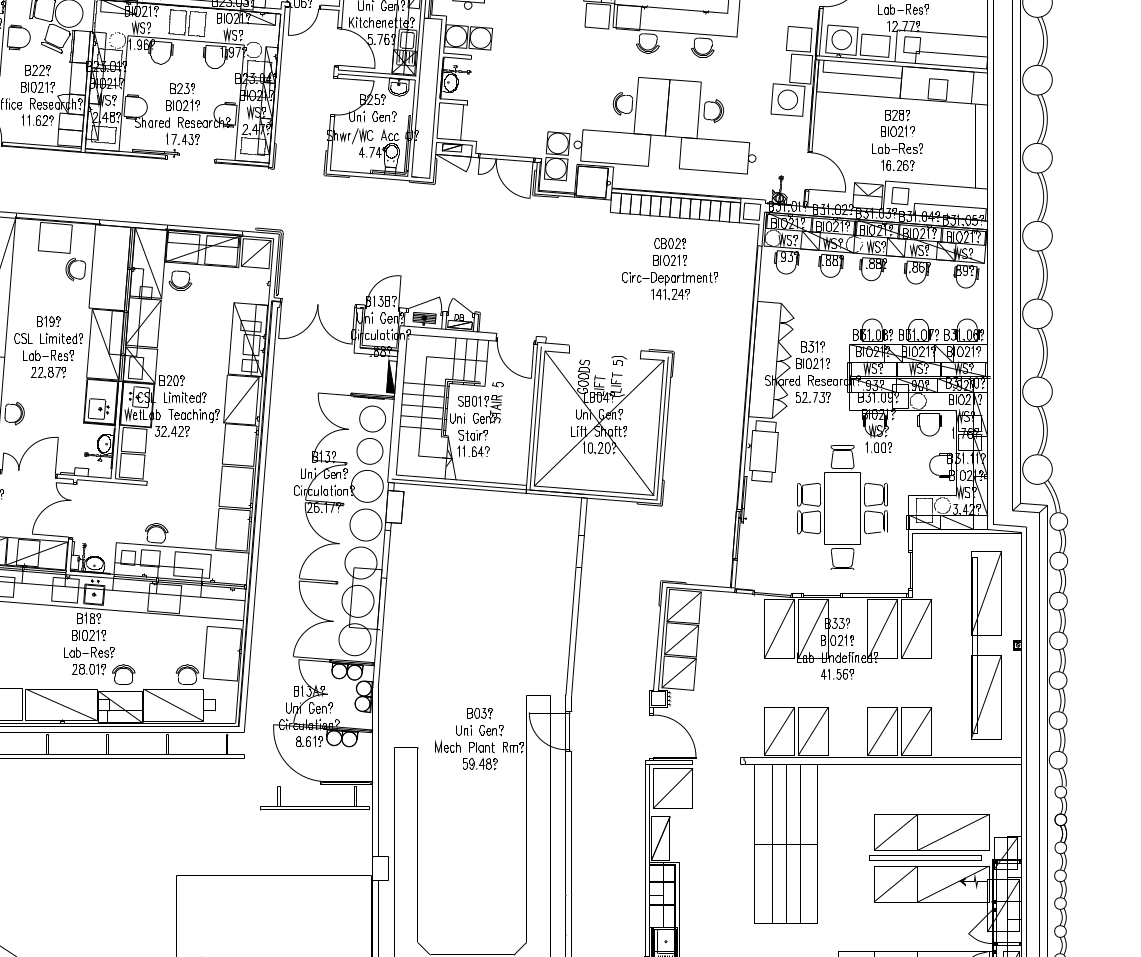door: (275, 295, 358, 354), (285, 579, 340, 661), (287, 501, 342, 583), (300, 386, 355, 468), (473, 148, 534, 214), (1, 430, 65, 488), (268, 721, 321, 785), (27, 479, 75, 541), (801, 142, 849, 198), (650, 706, 698, 762), (526, 705, 574, 761), (490, 330, 537, 383), (331, 27, 377, 73), (329, 76, 375, 122), (360, 265, 407, 310), (284, 5, 323, 42)
